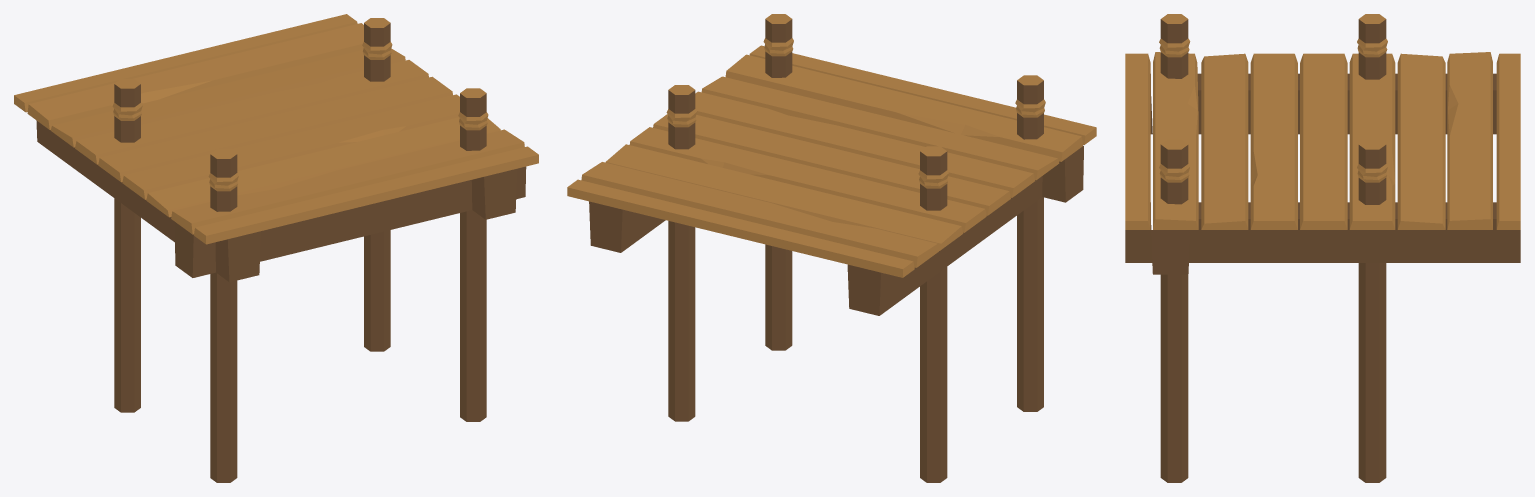
The model's file is pier-tile-straight.glb.
3 renders of one model, left to right at view 1: azimuth 30°, elevation 25°; view 2: azimuth 150°, elevation 25°; view 3: azimuth 270°, elevation 25°, orthographic. The views are drawn at different scales.
Visible parts, largest first — view 1: pier-tile-straight; view 2: pier-tile-straight; view 3: pier-tile-straight.
Part boxes in pixels (left/top/right/bottom): pier-tile-straight: left=14, top=14, right=538, bottom=482; pier-tile-straight: left=567, top=14, right=1096, bottom=482; pier-tile-straight: left=1125, top=14, right=1520, bottom=482.
Size of the model in its own units: 4 by 3.72 by 4.
Materials: 1 (1 with a texture image).
